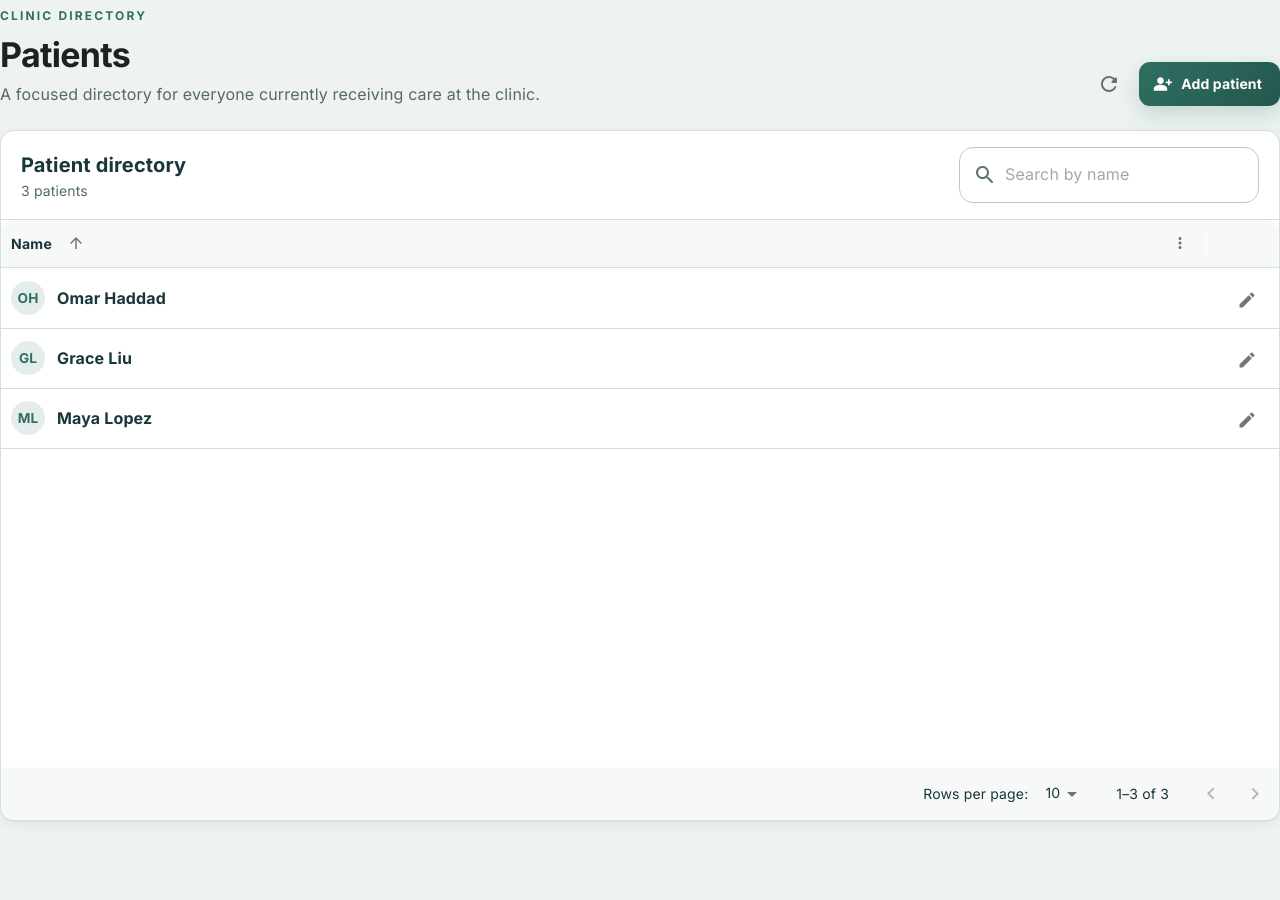
it: PatientsDirectory › adds a patient from the drawer
Expected: the text "3 patients" is shown, [21,182,88,199]
Click the button "Add patient" at {"x": 1210, "y": 84}, box [1139,62,1279,106]
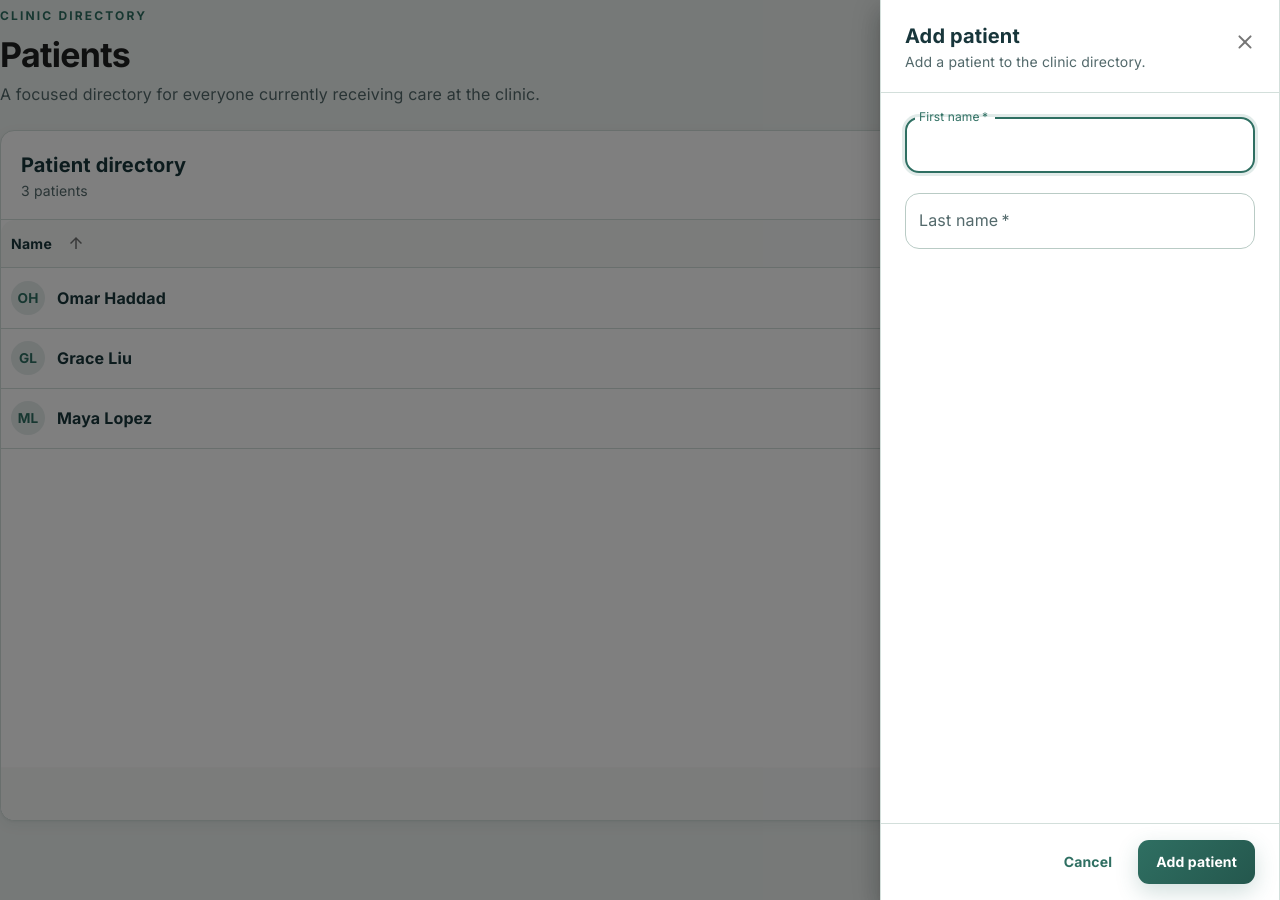
Type "Iris" into the field labelled "First name" at {"x": 1080, "y": 145}, box [905,117,1255,173]
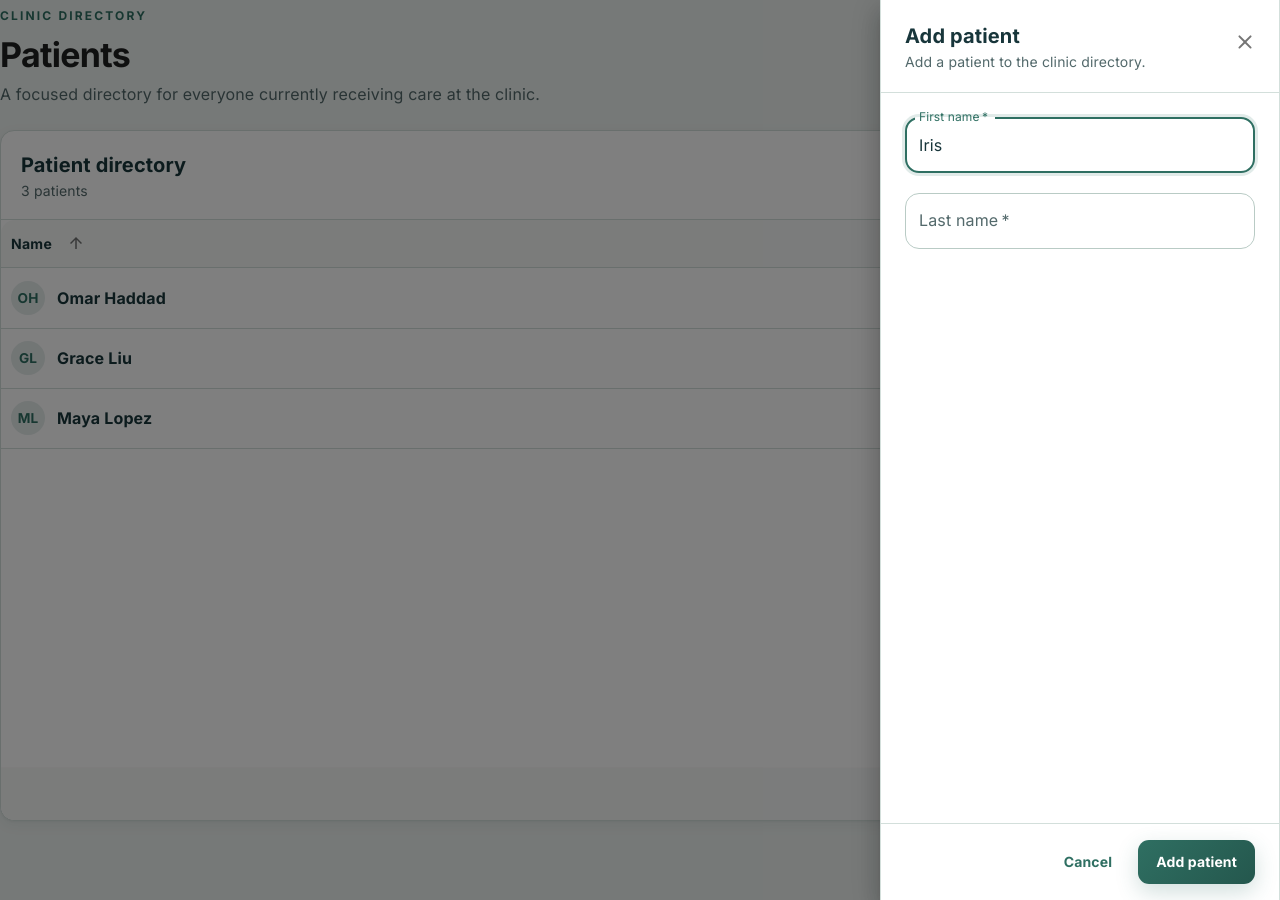
Type "Bell" into the field labelled "Last name" at {"x": 1080, "y": 221}, box [905,193,1255,249]
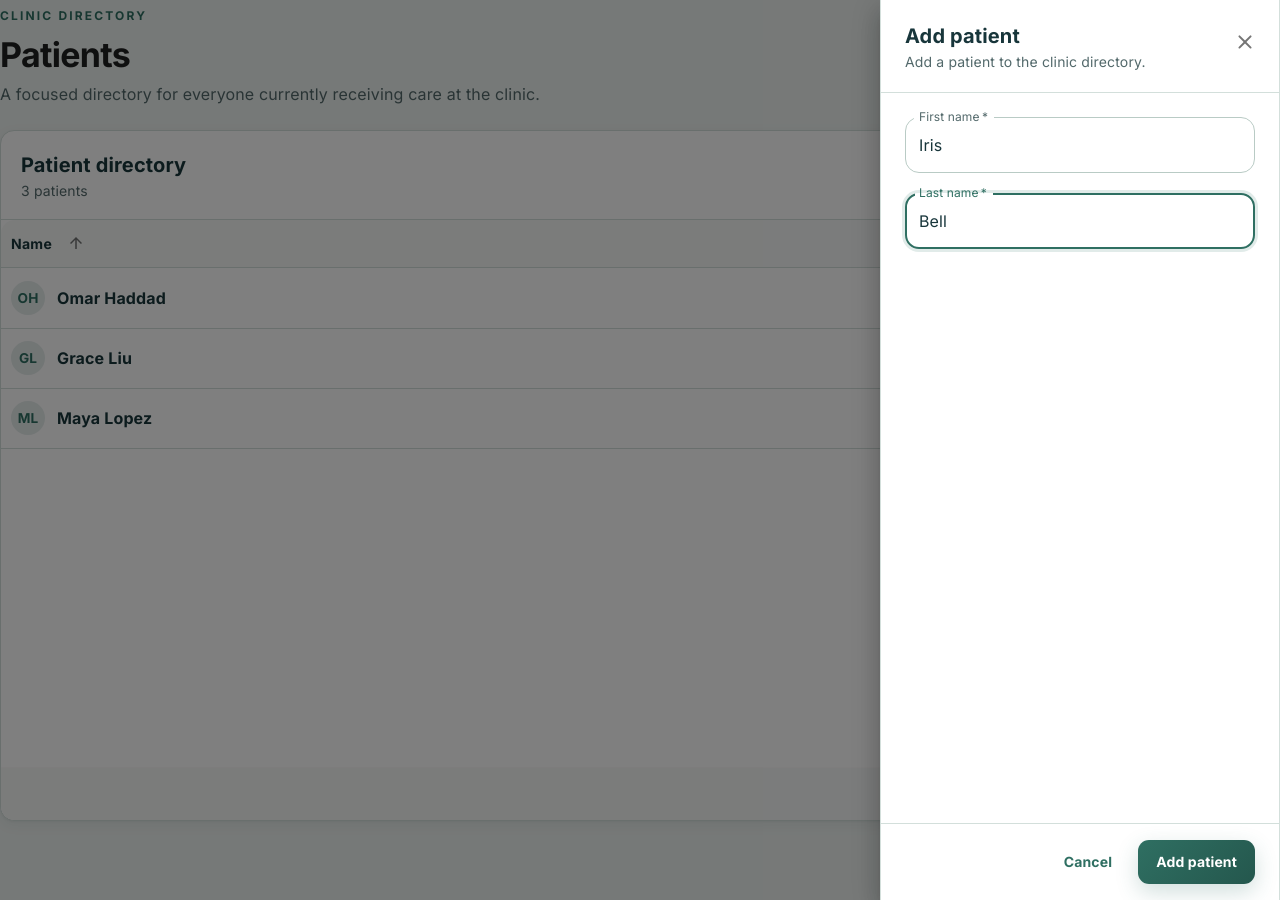
Click the button "Add patient" at {"x": 1197, "y": 862}, box [1138,840,1255,884]
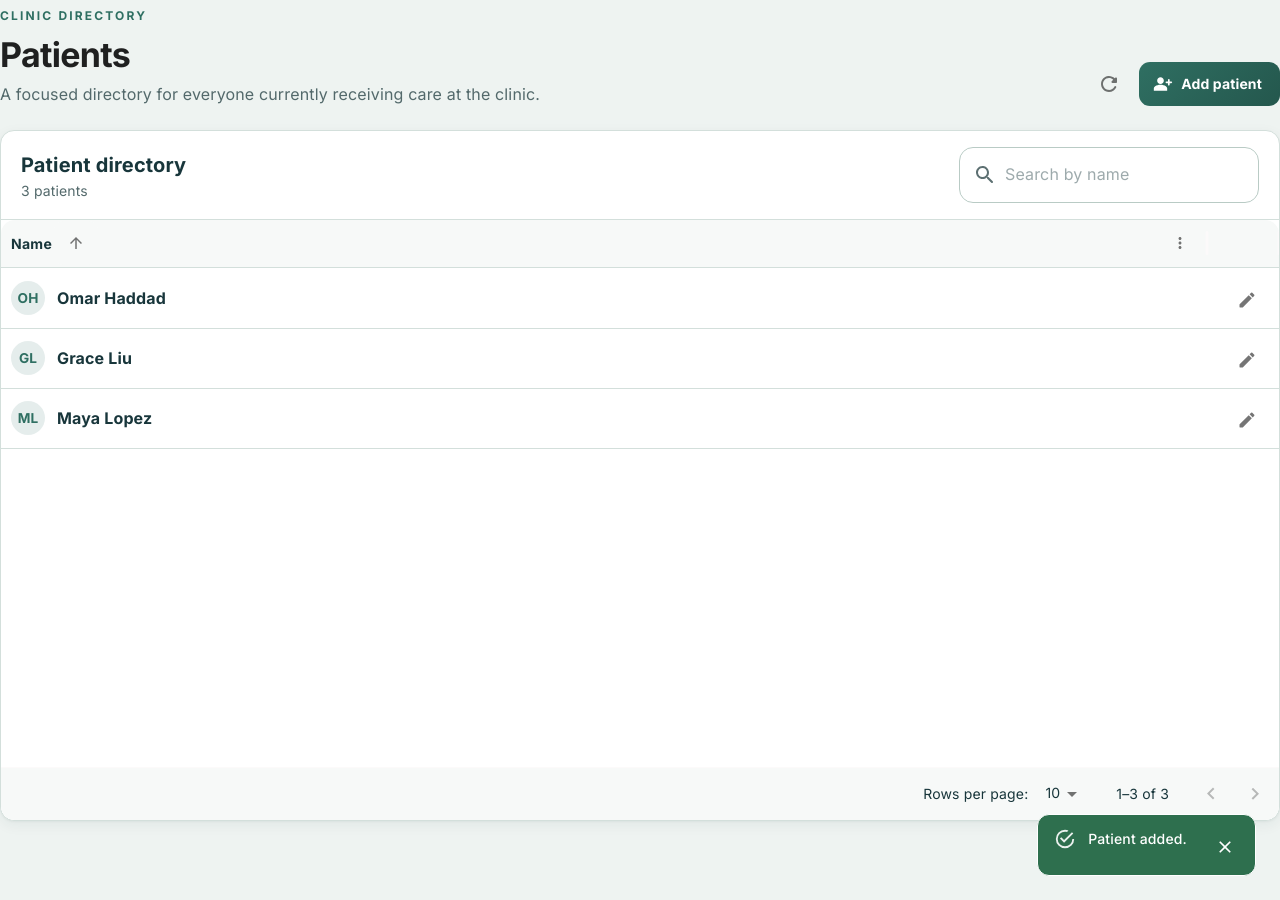
Result: the text "Patient added." is shown at [1088,830,1187,847]
